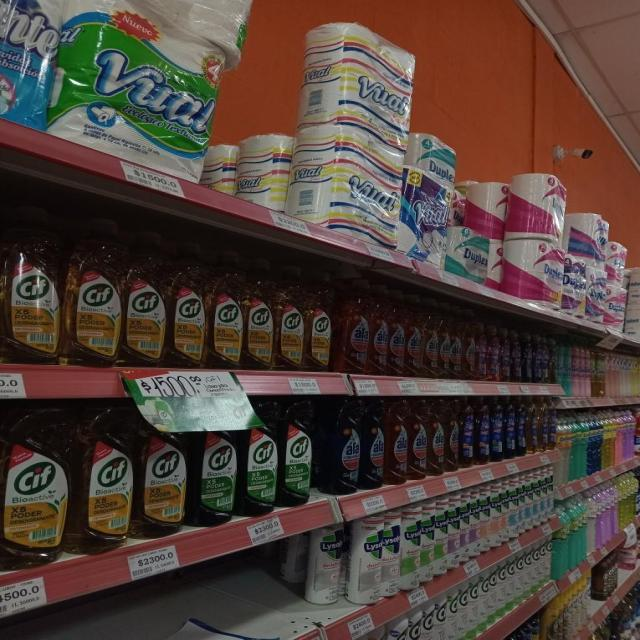ala_conc_azul: (327, 400, 360, 494), (361, 400, 384, 490)
ala_conc_rojo: (338, 279, 370, 375), (385, 399, 408, 484), (409, 399, 427, 480), (428, 399, 445, 476), (370, 305, 388, 376), (389, 309, 405, 377), (406, 313, 422, 378), (445, 398, 459, 472), (423, 316, 439, 379), (451, 320, 463, 380), (464, 320, 476, 380), (439, 317, 450, 379), (477, 323, 488, 381)
cif_conc_bot_amarilla: (1, 402, 69, 562), (1, 204, 60, 366), (72, 405, 134, 555), (63, 216, 121, 367), (136, 412, 187, 540), (123, 229, 166, 368), (167, 240, 206, 369), (208, 248, 243, 369), (244, 256, 273, 371), (275, 264, 304, 372), (305, 269, 333, 372)
cif_conc_botella_verde: (190, 406, 237, 526), (238, 400, 277, 516), (278, 399, 313, 507)
zorro: (475, 398, 490, 465)
